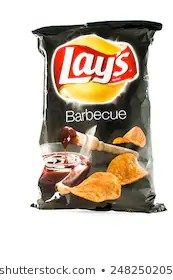lays-med: (28, 21, 160, 209)
